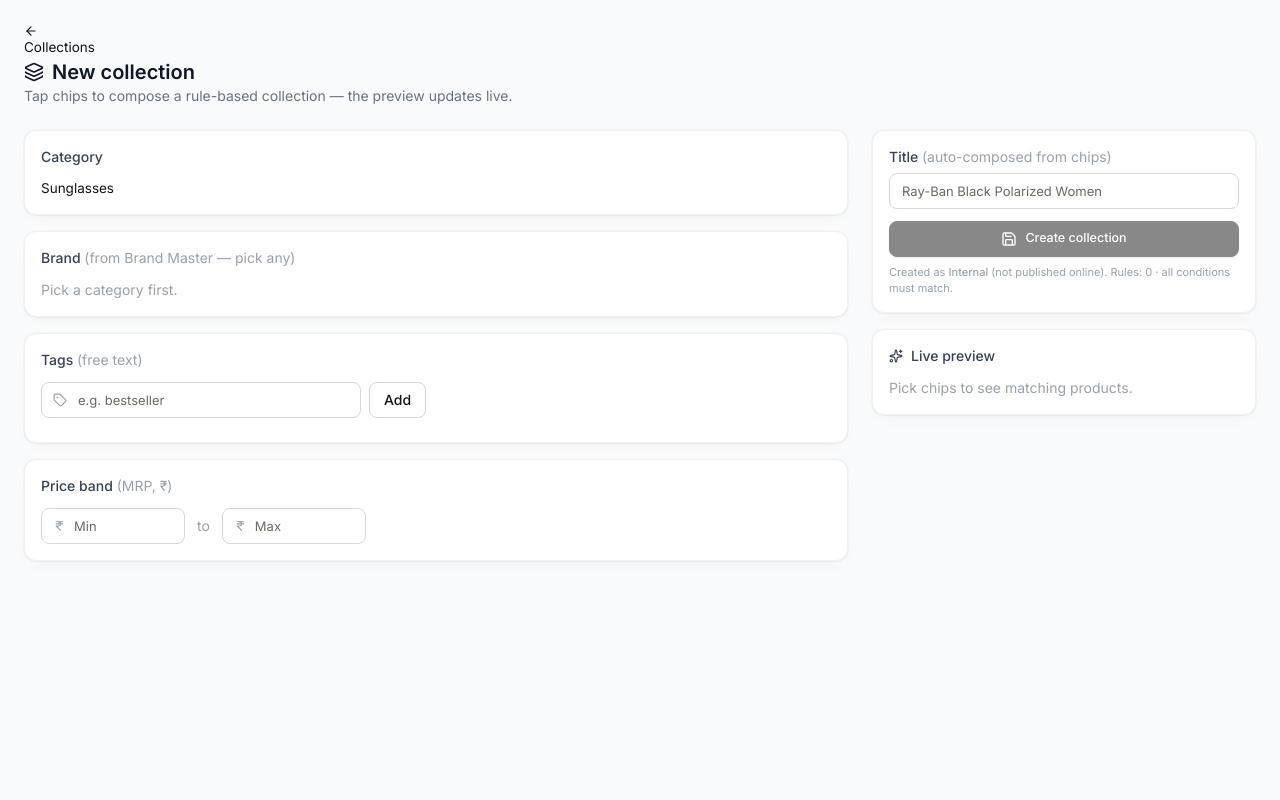
New Collection: rules the website cannot read › keeps Create off while the preview cannot check the rules
Click the button "Sunglasses" at (78,188), box [41, 179, 114, 198]
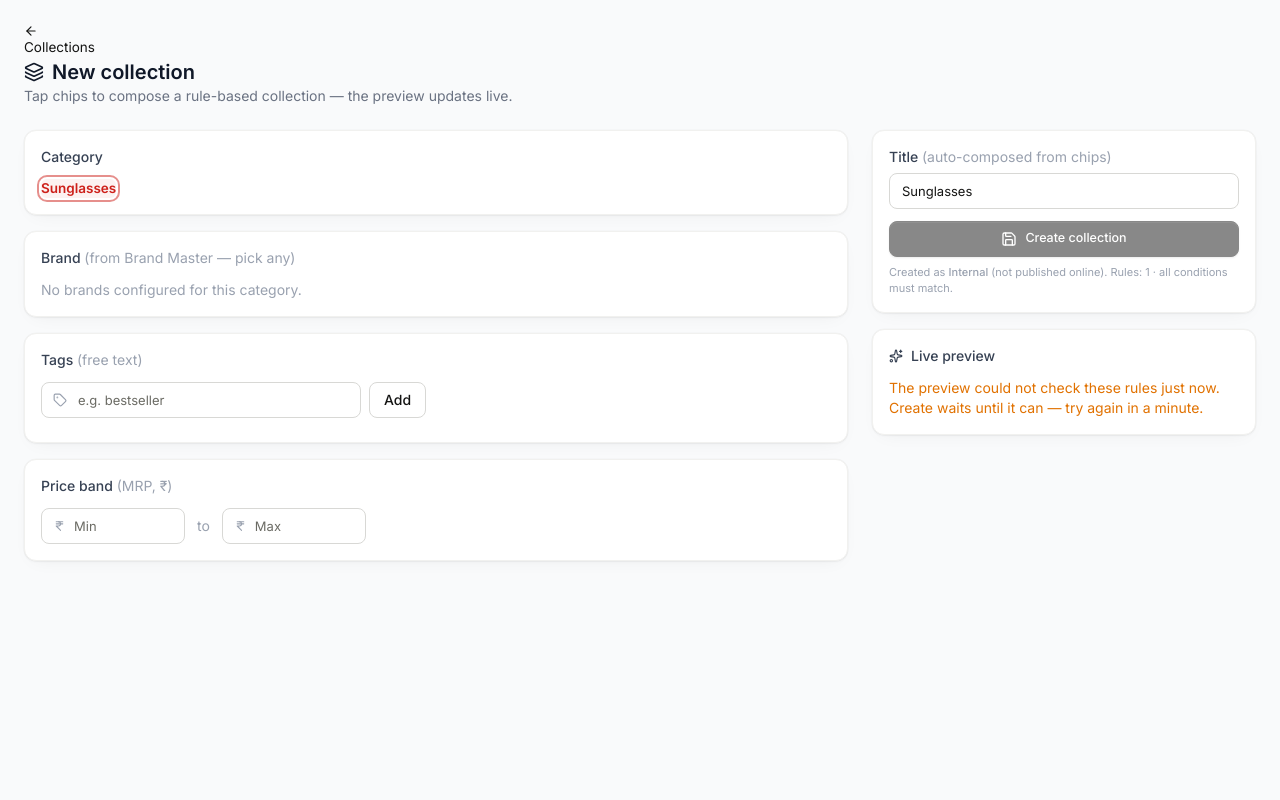
Expected: the button "Create collection" is disabled, [889, 221, 1239, 257]
Result: the text with test id "preview-unavailable" is shown at [889, 378, 1239, 418]
